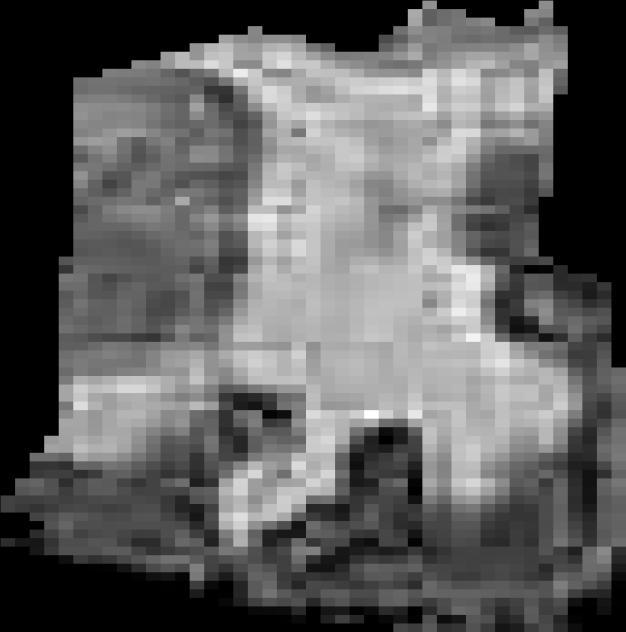tumor_moderate_chance: (1, 1, 626, 632)
